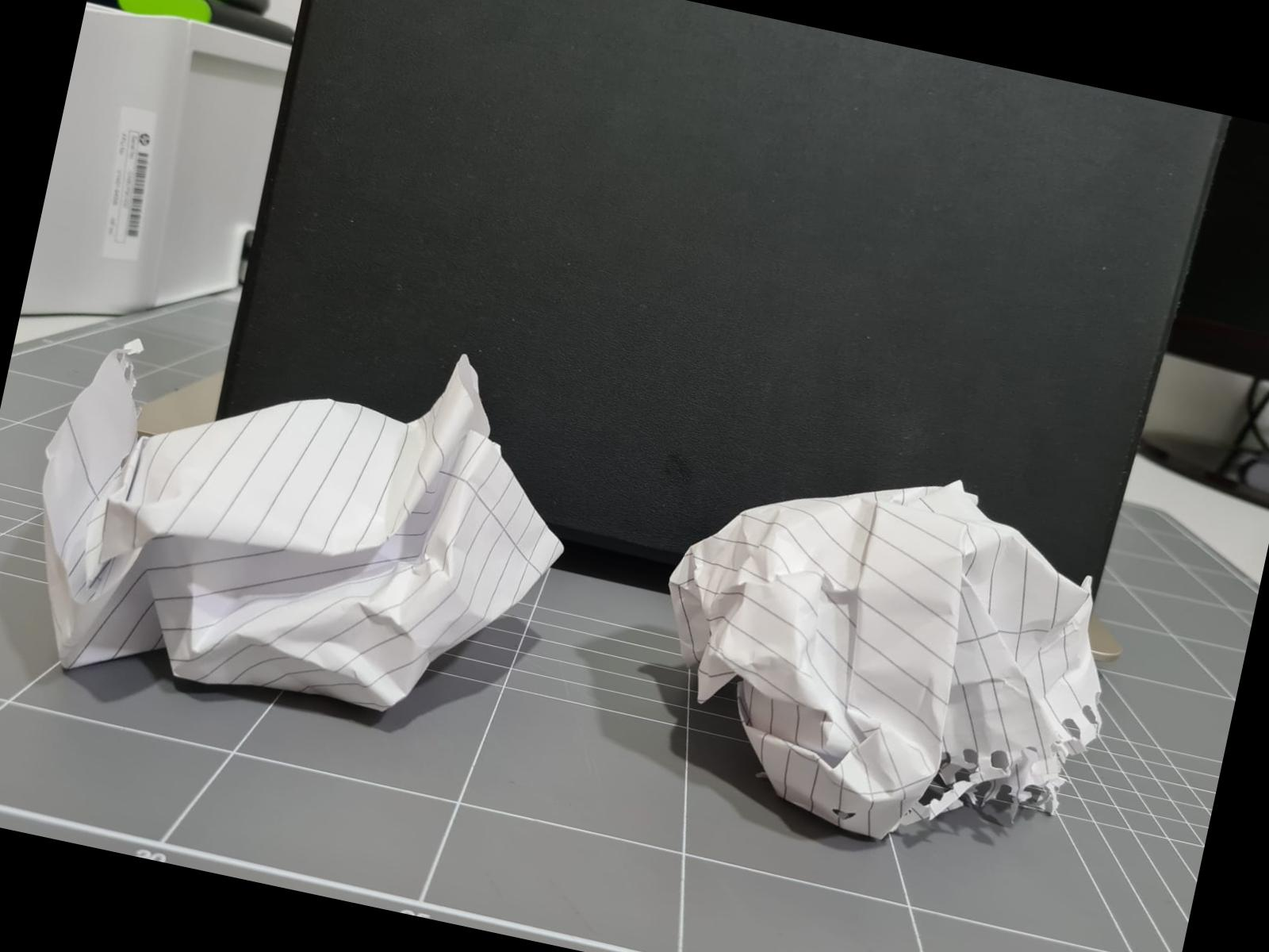Kertas: (43, 340, 561, 710), (671, 483, 1099, 837)
